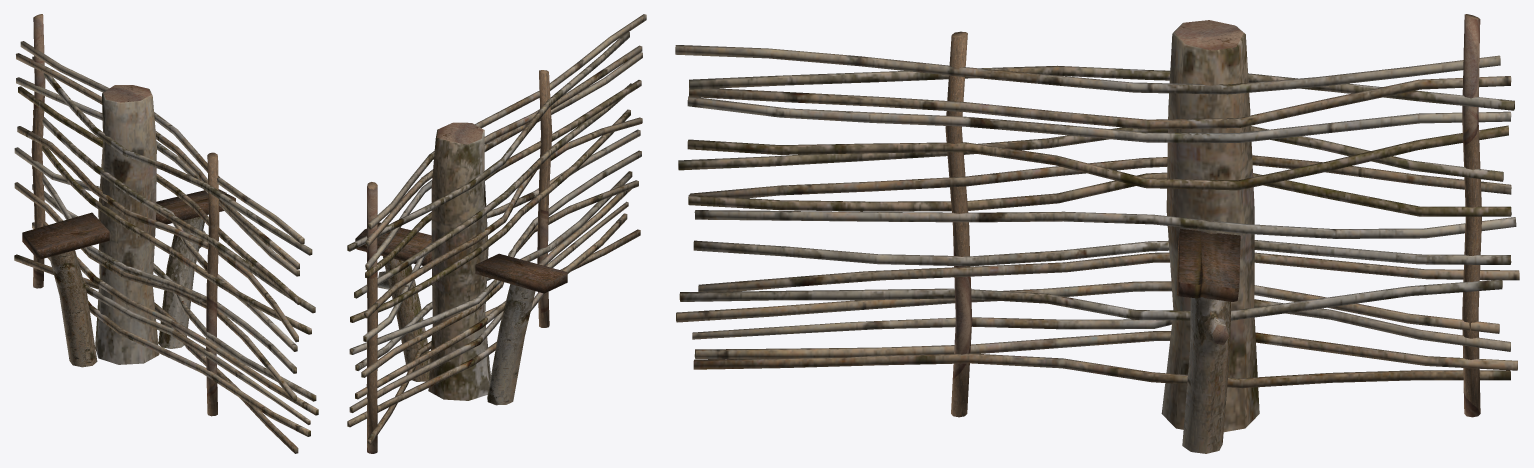
Rendered from fence_planks.glb.
The picture shows the model from 3 angles, left to right: view 1: azimuth 30°, elevation 25°; view 2: azimuth 150°, elevation 25°; view 3: azimuth 270°, elevation 25°; orthographic projection. The views are drawn at different scales.
Parts seen in each view (by area): view 1: fence03_Log_0; view 2: fence03_Log_0; view 3: fence03_Log_0.
Boxes of the visible parts, box(x1,y1,x2,y2) form: fence03_Log_0: box(14, 14, 318, 453); fence03_Log_0: box(347, 14, 646, 453); fence03_Log_0: box(675, 14, 1519, 453).
Bounding box in the file's own units: 0.8892 × 1.17 × 2.23.
2 materials, 2 textured.
